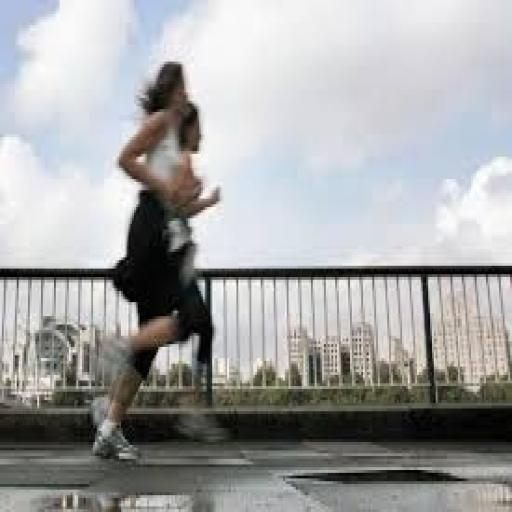running: (88, 59, 227, 467)
